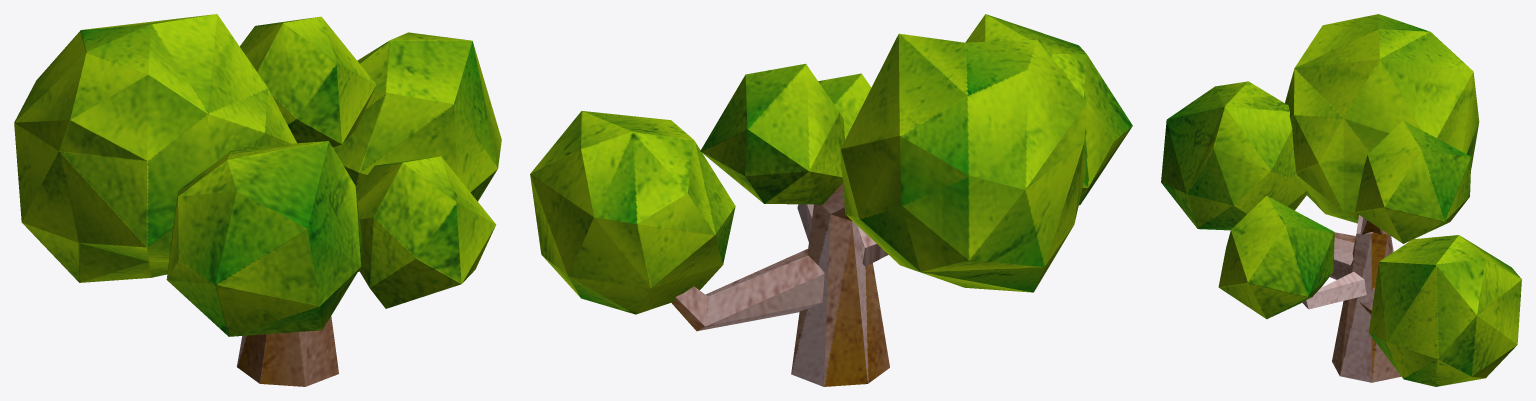
Rendered from Laubbaum1_final.fbx.
3 renders of one model, left to right at view 1: azimuth 30°, elevation 25°; view 2: azimuth 150°, elevation 25°; view 3: azimuth 270°, elevation 25°, orthographic. The views are drawn at different scales.
Visible parts, largest first — view 1: laubbaul1_final_1; view 2: laubbaul1_final_1; view 3: laubbaul1_final_1.
Boxes of the visible parts, bbox=[...] form: laubbaul1_final_1: bbox=[14, 14, 501, 386]; laubbaul1_final_1: bbox=[530, 14, 1132, 386]; laubbaul1_final_1: bbox=[1161, 14, 1521, 386].
Bounding box in the file's own units: 5411 × 3857 × 4412.
